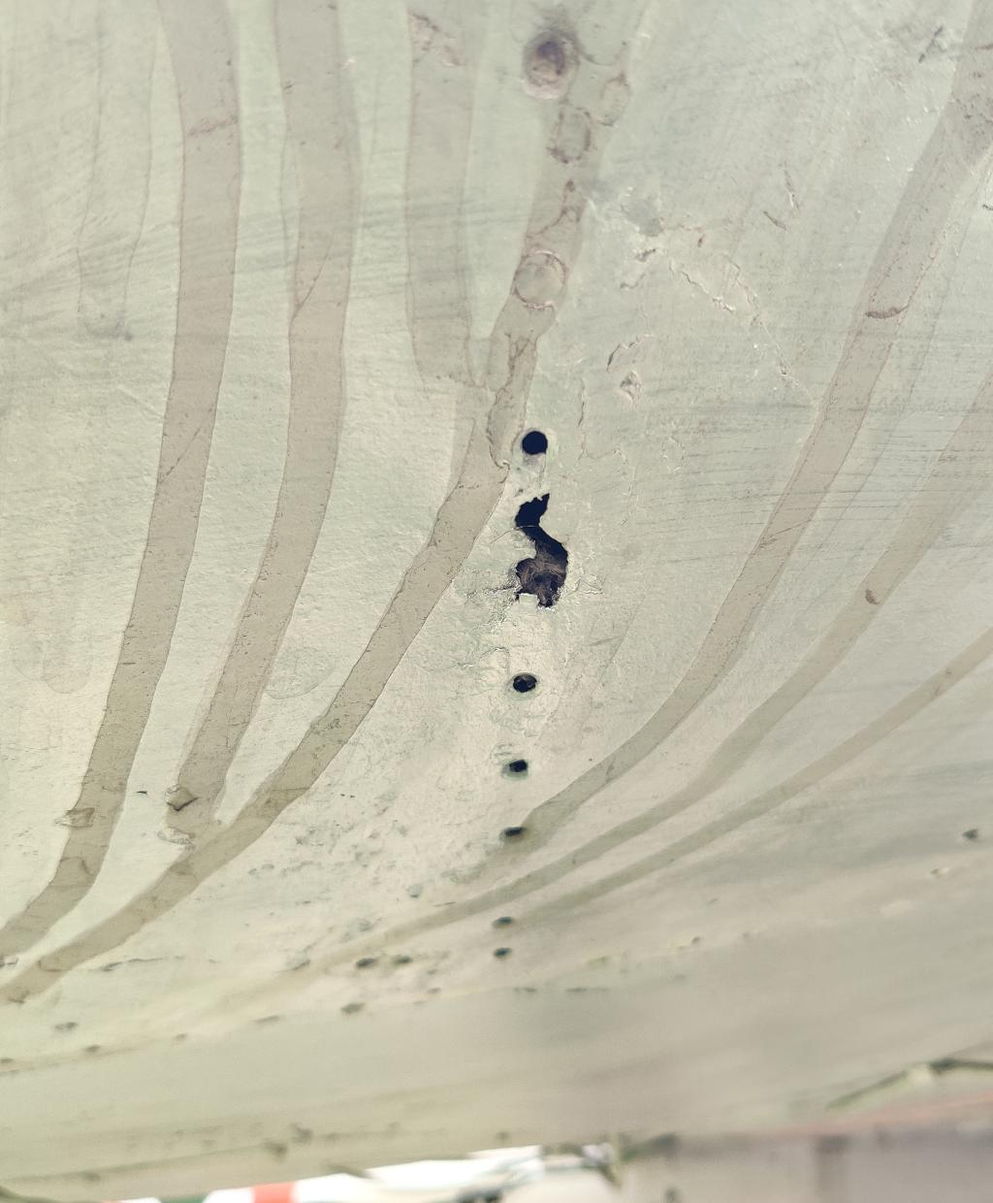crack: (457, 465, 606, 658)
